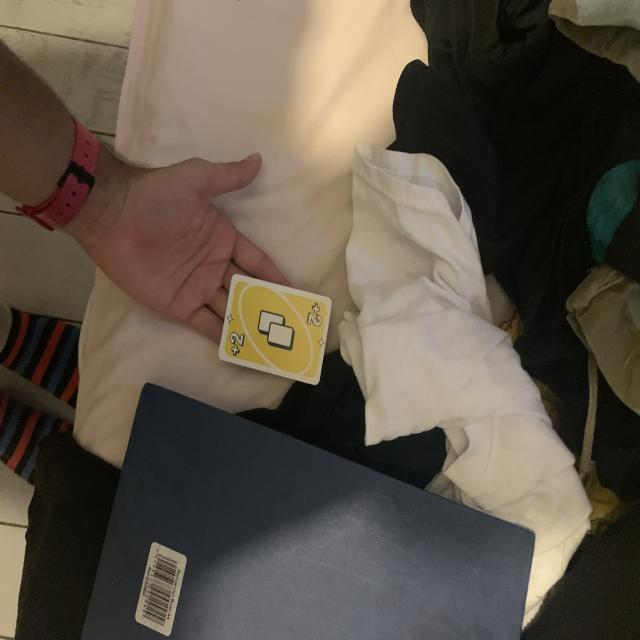lyellow-20: (223, 320, 250, 359)
